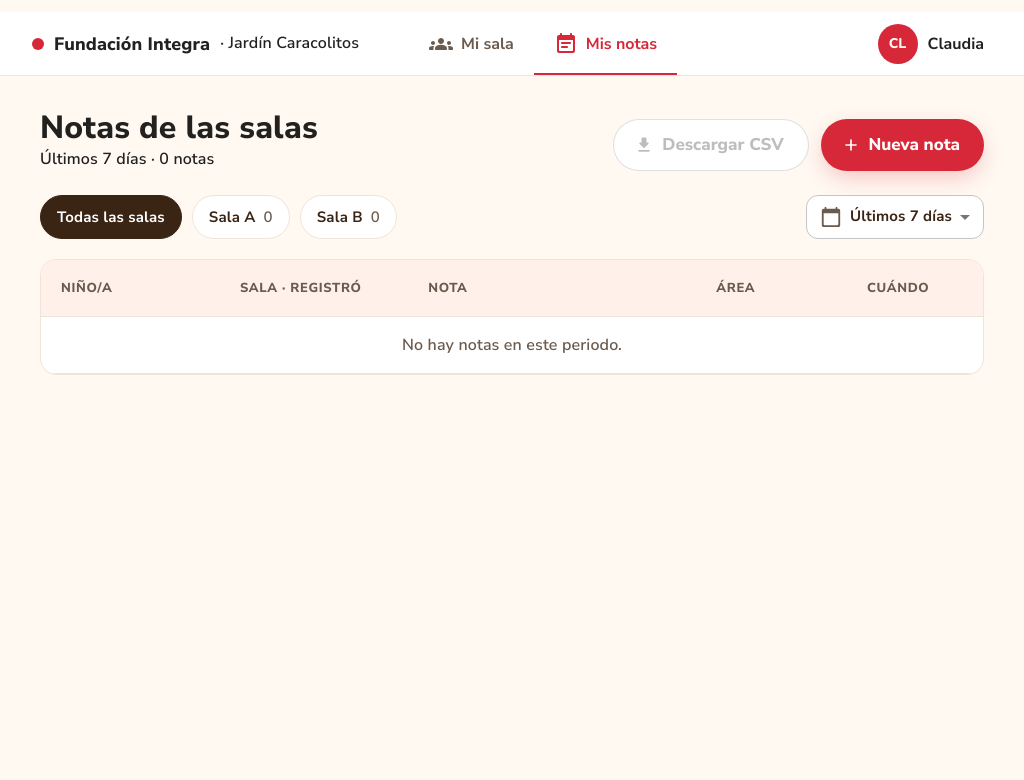
Scenario: Pestañas de escritorio › parte en Mis notas y cambia a Mi sala
The image size is (1024, 780).
Expected: the heading "Notas de las salas" is shown, [40, 108, 318, 148]
Step 1. Click the tab "Mi sala" → (471, 44), box [409, 12, 534, 76]
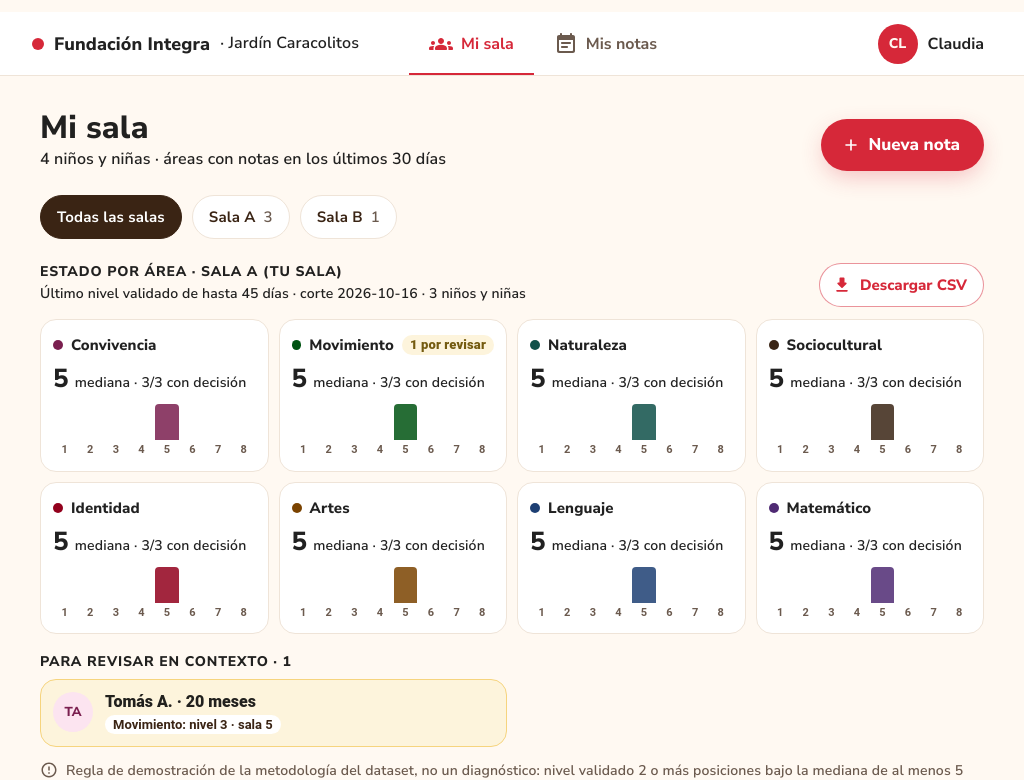
Result: the heading "Mi sala" is shown at [40, 106, 149, 149]
